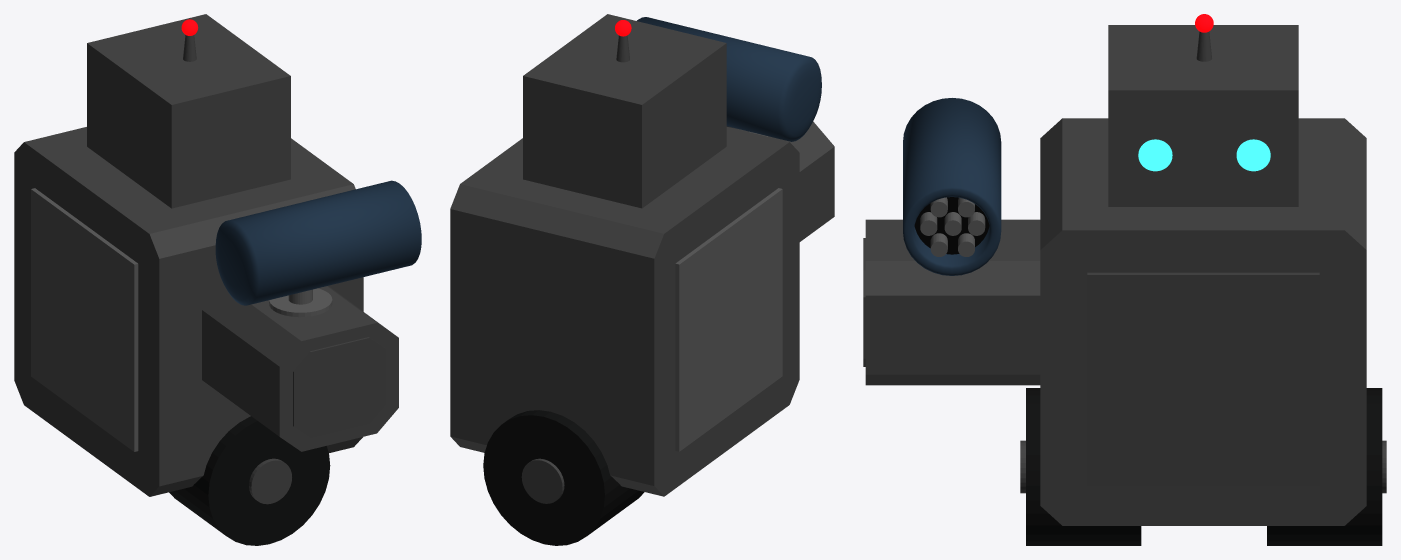
File: robot3.fbx
3 views of the same model, side by side, from view 1: azimuth 30°, elevation 25°; view 2: azimuth 150°, elevation 25°; view 3: azimuth 270°, elevation 25° (orthographic). The views are drawn at different scales.
Visible parts, largest first — view 1: Robot_Homing; view 2: Robot_Homing; view 3: Robot_Homing.
Boxes of the visible parts, x1,y1,x2,y2 form: Robot_Homing: [14, 14, 421, 545]; Robot_Homing: [450, 14, 834, 545]; Robot_Homing: [863, 14, 1386, 545].
Bounding box in the file's own units: 384 × 804 × 728.
